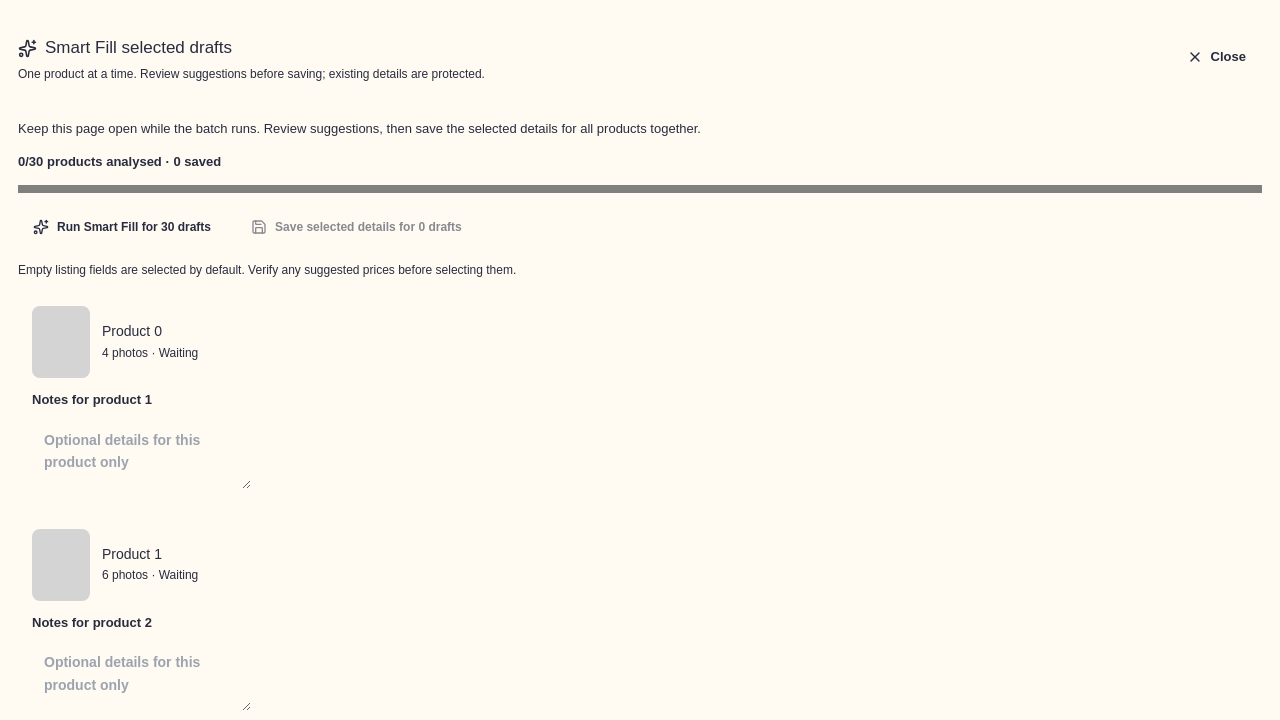
Test: one action analyses all 30 drafts with isolated photo groups; saving is reviewed and preserves prices and rental configuration
What coordinates should you click on to do the following:
click the button "Run Smart Fill for 30 drafts"
I would click on:
 (122, 227)
Its box is [18, 205, 226, 249].
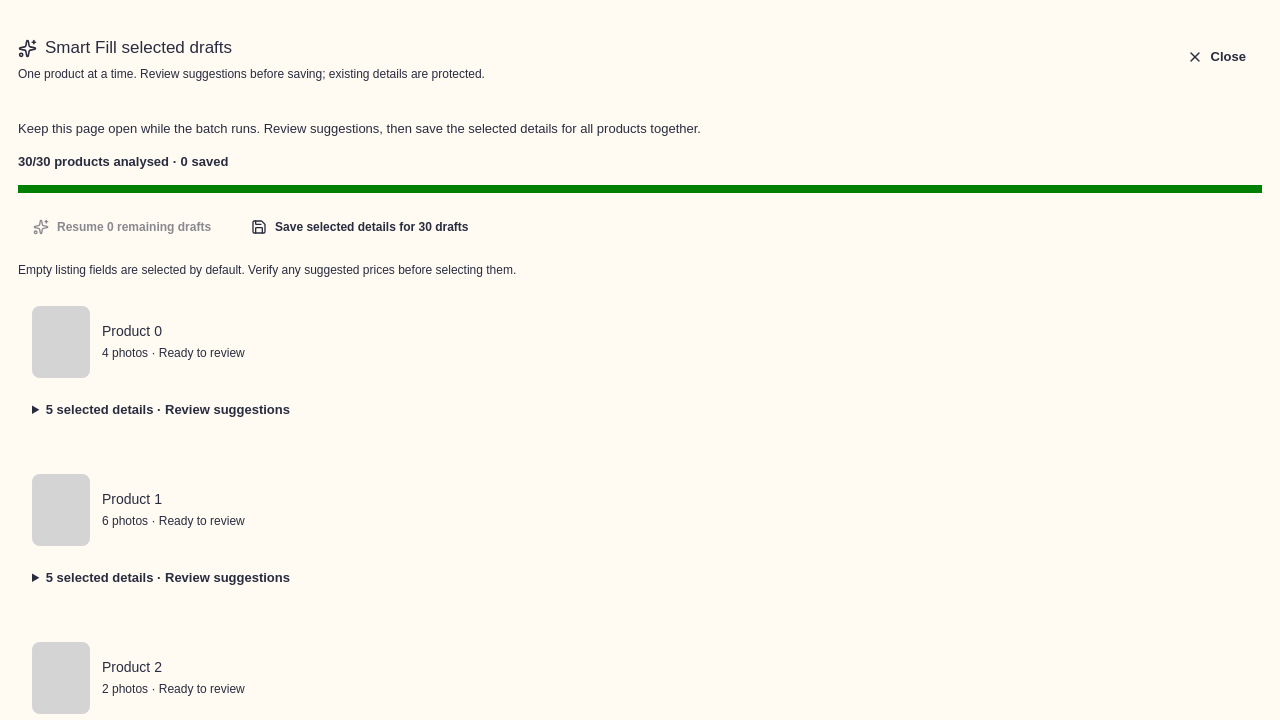
Check: the heading "Product 1" is shown, box [102, 491, 162, 507]
Check: the text "30/30 products analysed · 0 saved" is shown, box [18, 154, 228, 169]
What coordinates should you click on to do the following:
click the button "Save selected details for 30 drafts"
I would click on:
 (360, 227)
Its box is [236, 205, 484, 249].
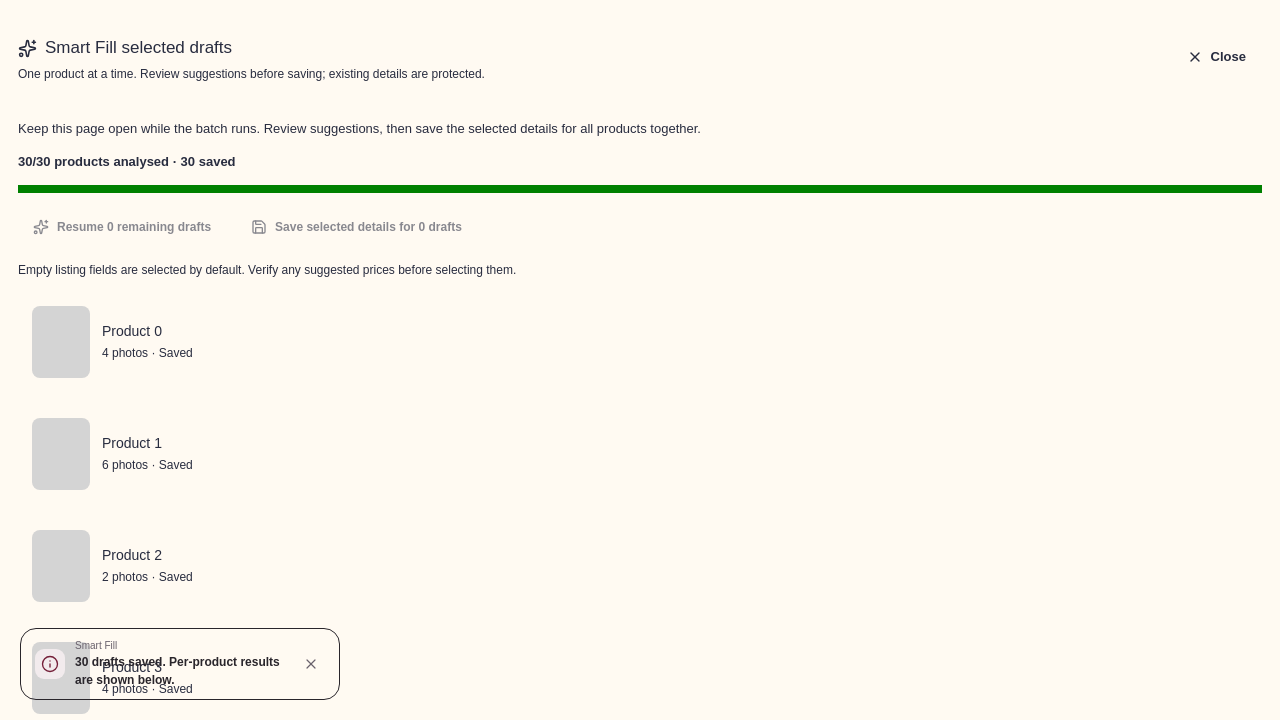
Check: the text "30/30 products analysed · 30 saved" is shown, box [18, 154, 236, 169]
